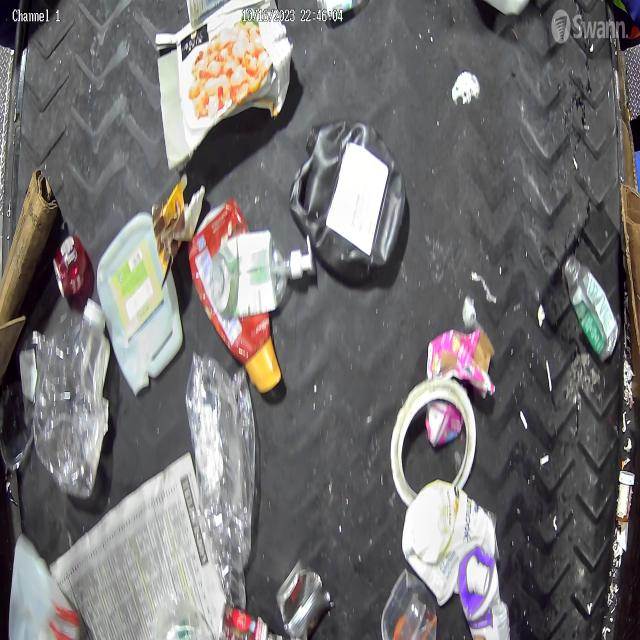can: (276, 555, 332, 640), (54, 235, 90, 299)
milk_jug: (95, 211, 182, 393), (8, 532, 82, 639)
non_white_jug: (292, 120, 407, 286)
plastic_bottle: (184, 354, 256, 610), (32, 299, 109, 497), (208, 231, 308, 322), (560, 250, 620, 359)
